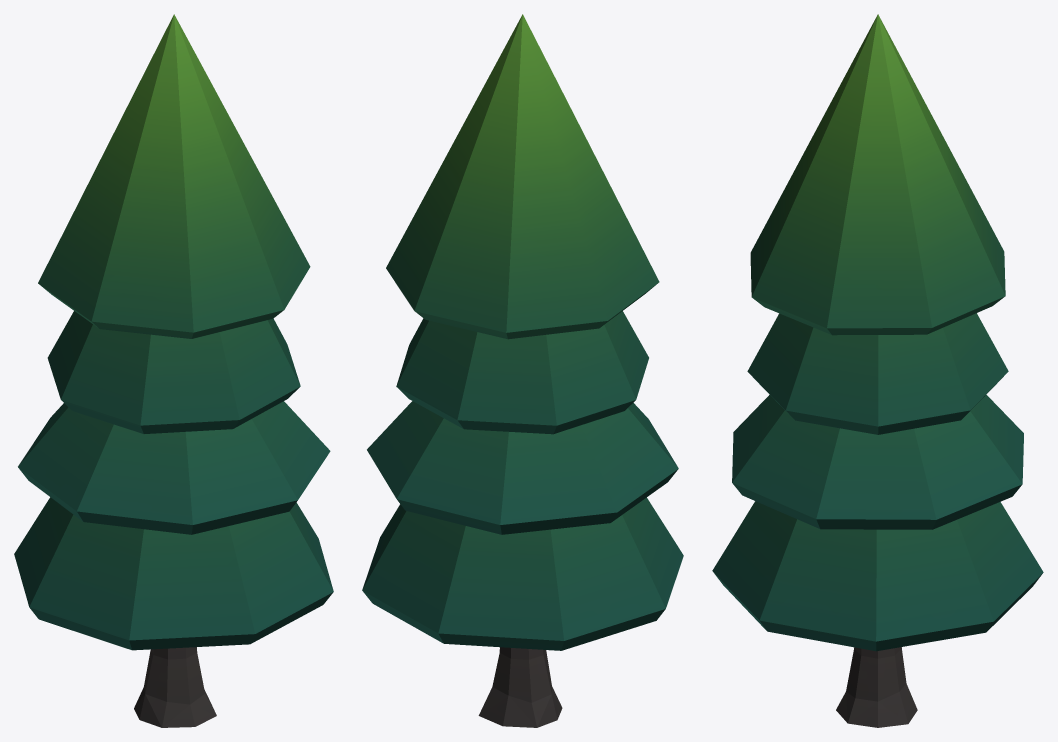
File: Gshenlvse.FBX
The picture shows the model from 3 angles, left to right: view 1: azimuth 30°, elevation 25°; view 2: azimuth 150°, elevation 25°; view 3: azimuth 270°, elevation 25°; orthographic projection.
Visible parts, largest first — view 1: PineTree_B_01 - Default_0; view 2: PineTree_B_01 - Default_0; view 3: PineTree_B_01 - Default_0.
Boxes of the visible parts, x1,y1,x2,y2 form: PineTree_B_01 - Default_0: (14,14,333,727); PineTree_B_01 - Default_0: (362,14,683,727); PineTree_B_01 - Default_0: (712,14,1043,727).
Size of the model in its own units: 24.36 by 56.46 by 24.36.
